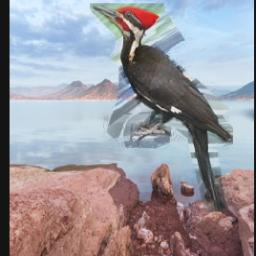Woodpecker: (90, 4, 233, 213)
